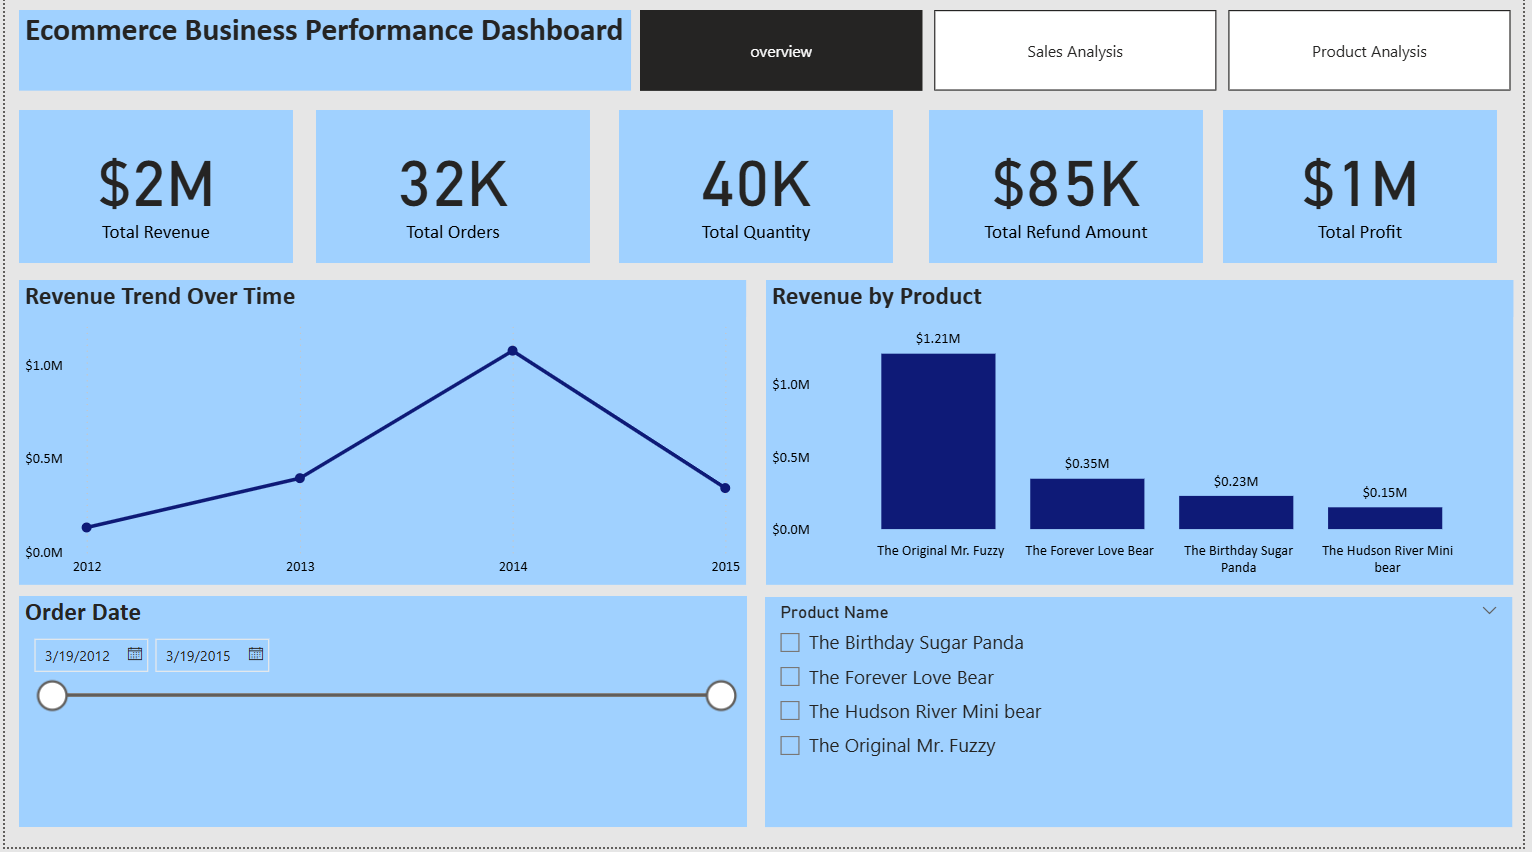

What the dashboard file says about the page in this screenshot:
{"tool":"powerbi","page":{"name":"overview","canvas":[1280,720],"ordinal":0},"visuals":[{"type":"textbox","title":"Ecommerce Business Performance Dashboard","box":[11.6,14.3,515.8,68.1],"z":0},{"type":"card","fields":{"Values":["Order items.Total Revenue"]},"box":[11.6,98.5,231,129],"z":1000},{"type":"lineChart","title":"Revenue Trend Over Time","fields":{"Category":["Order items.created_at.Variation.Date Hierarchy.Year","Order items.created_at.Variation.Date Hierarchy.Quarter","Order items.created_at.Variation.Date Hierarchy.Month","Order items.created_at.Variation.Date Hierarchy.Day"],"Y":["Order items.Total Revenue"]},"box":[11.6,241.8,613.4,257],"z":2000},{"type":"columnChart","title":"Revenue by Product","fields":{"Y":["Order items.Total Revenue"],"Category":["Product_Data.product_name"]},"box":[641.2,241.8,629.6,257],"z":3000},{"type":"slicer","title":"Order Date","fields":{"Values":["Order items.created_at"]},"box":[11.6,508.7,613.4,194.3],"z":4000},{"type":"slicer","fields":{"Values":["Product_Data.product_name"]},"box":[641,509,630,194],"z":5000},{"type":"pageNavigator","box":[535.5,14.3,735.2,68.1],"z":6000},{"type":"card","fields":{"Values":["Order items.Total Orders"]},"box":[262.4,98.5,231,129],"z":7000},{"type":"card","fields":{"Values":["Order items.Total Qty"]},"box":[517.6,98.5,231,129],"z":8000},{"type":"card","fields":{"Values":["Order items.Total Refund"]},"box":[779.1,98.5,231,129],"z":9000},{"type":"card","fields":{"Values":["Sum(Order items.Profit_usd)"]},"box":[1027.2,98.5,231,129],"z":10000}]}

Visuals, with their boxes in screenshot pixels (x1, y1, x2, y2), scaled from the page's 1280x720 canvas onto the 1532x852 screenshot:
"Ecommerce Business Performance Dashboard" textbox: <bbox>14, 17, 631, 98</bbox>
card - Order items.Total Revenue: <bbox>14, 117, 290, 269</bbox>
"Revenue Trend Over Time" lineChart: <bbox>14, 286, 748, 590</bbox>
"Revenue by Product" columnChart: <bbox>767, 286, 1521, 590</bbox>
"Order Date" slicer: <bbox>14, 602, 748, 832</bbox>
slicer - Product_Data.product_name: <bbox>767, 602, 1521, 832</bbox>
pageNavigator: <bbox>641, 17, 1521, 98</bbox>
card - Order items.Total Orders: <bbox>314, 117, 591, 269</bbox>
card - Order items.Total Qty: <bbox>620, 117, 896, 269</bbox>
card - Order items.Total Refund: <bbox>932, 117, 1209, 269</bbox>
card - Sum(Order items.Profit_usd): <bbox>1229, 117, 1506, 269</bbox>
